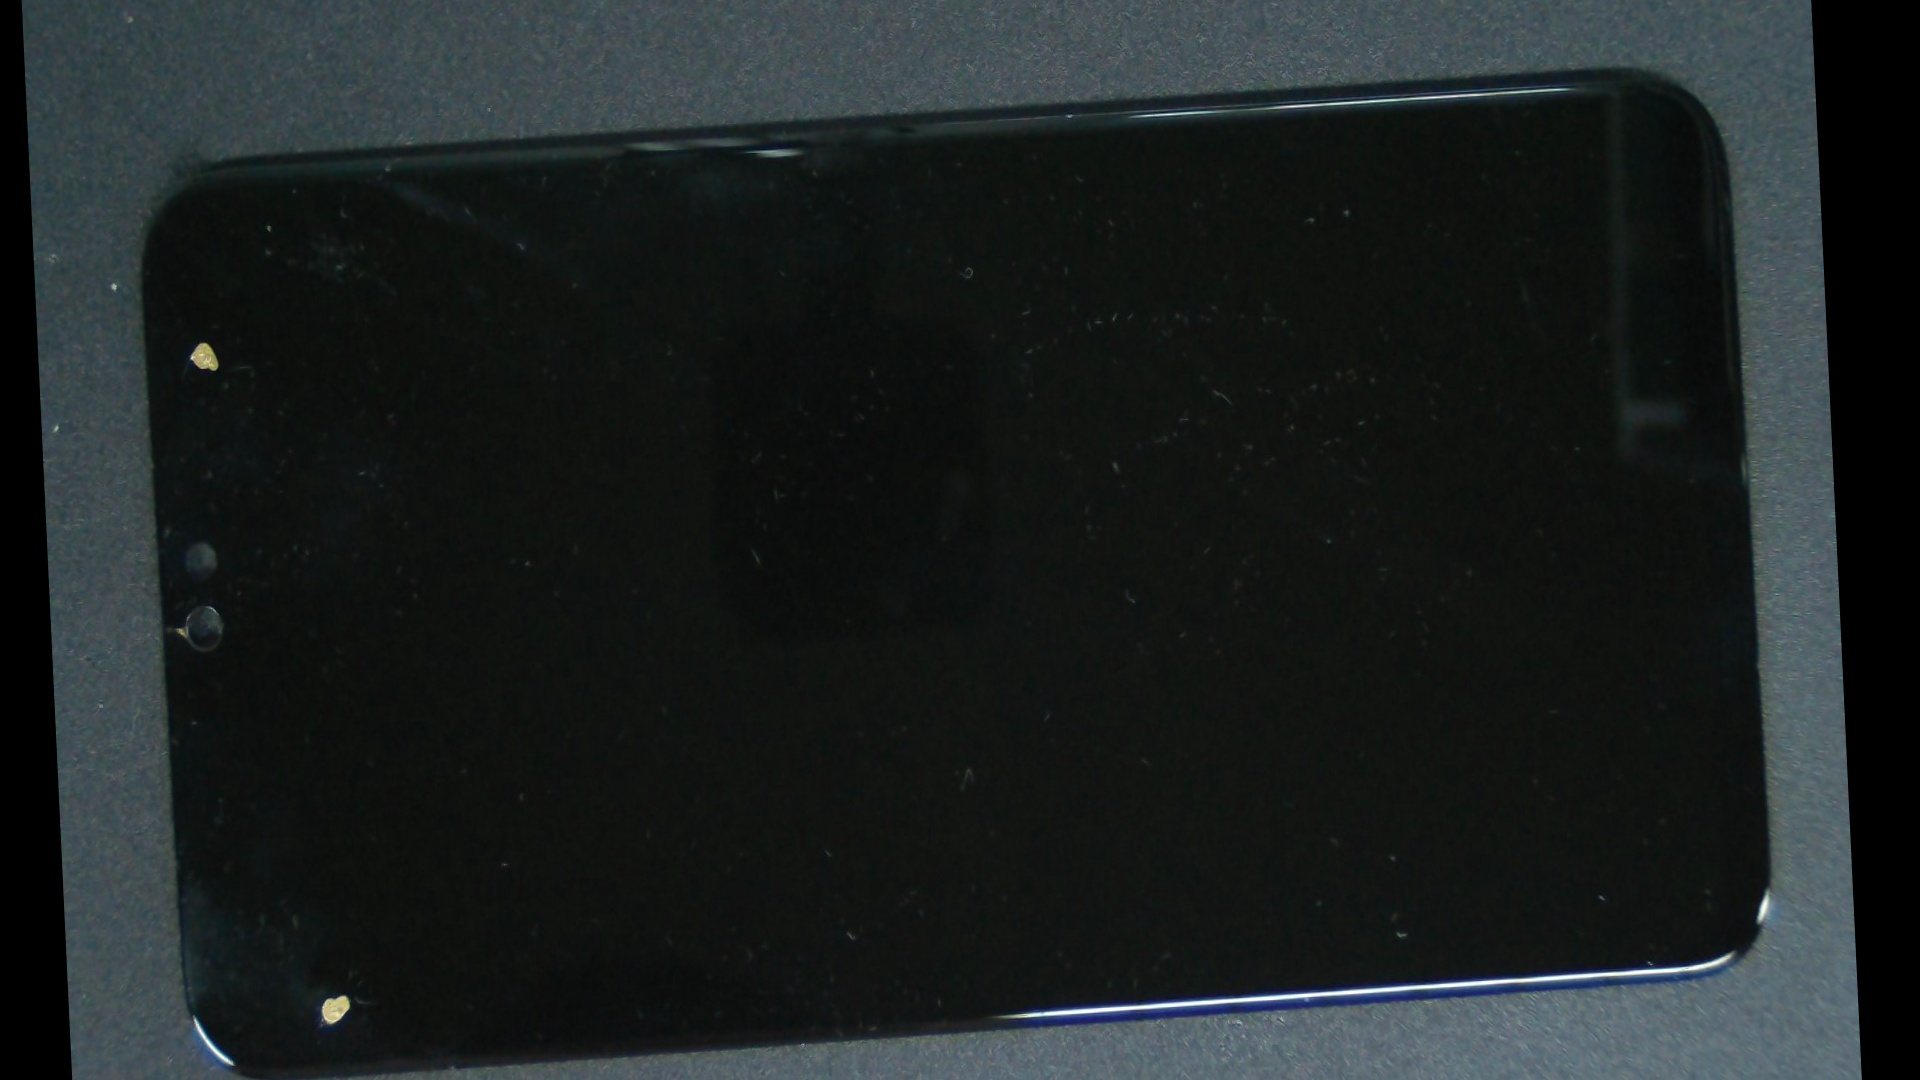oil: (181, 469, 485, 1080), (112, 148, 293, 535)
